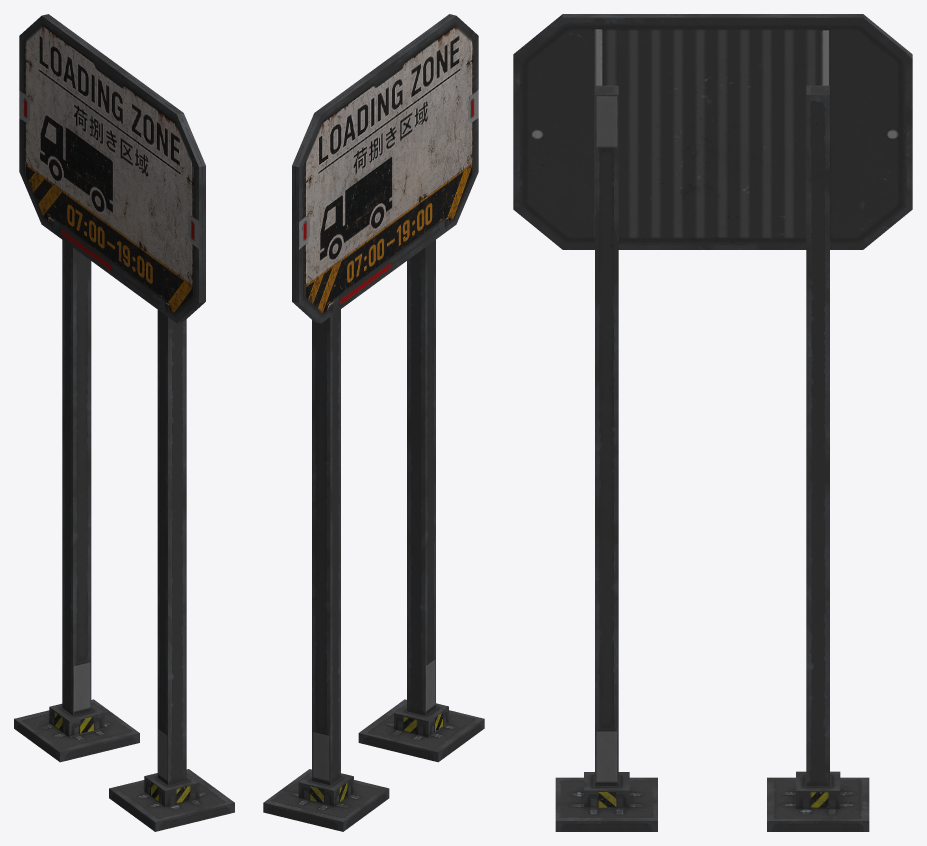
File: CP_Road_Sign_Loading_Zone.fbx
3 renders of one model, left to right at view 1: azimuth 30°, elevation 25°; view 2: azimuth 150°, elevation 25°; view 3: azimuth 270°, elevation 25°, orthographic. The views are drawn at different scales.
Visible parts, largest first — view 1: CP_Road_Sign_Loading_Zone; view 2: CP_Road_Sign_Loading_Zone; view 3: CP_Road_Sign_Loading_Zone.
Boxes of the visible parts, box(x1,y1,x2,y2) form: CP_Road_Sign_Loading_Zone: box(14, 14, 234, 831); CP_Road_Sign_Loading_Zone: box(263, 14, 484, 831); CP_Road_Sign_Loading_Zone: box(513, 14, 912, 831).
Size of the model in its own units: 34.27 by 291 by 134.
